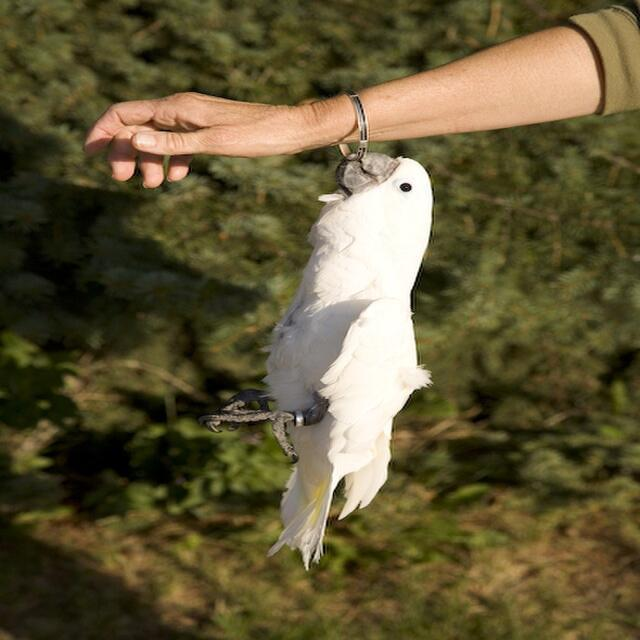Kakatua Putih: (194, 142, 478, 582)
